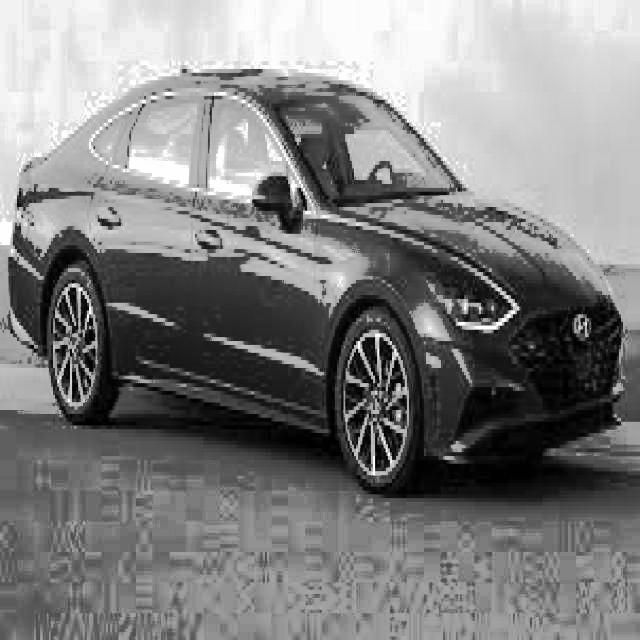Car: (0, 38, 638, 498)
